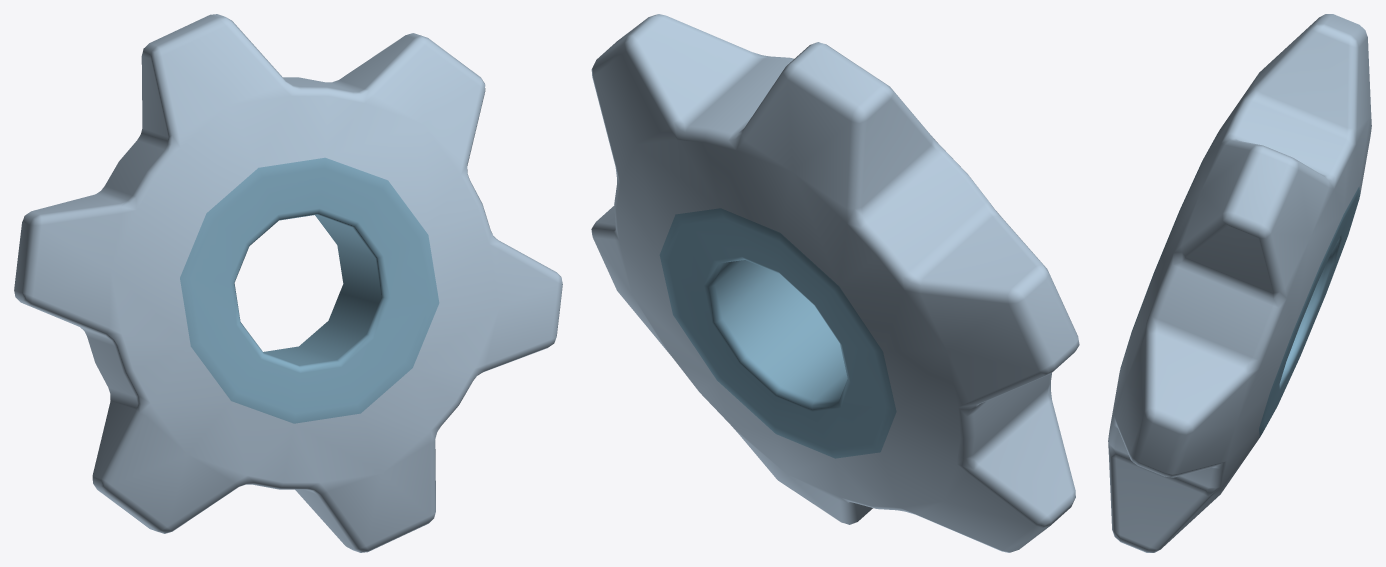
3 renders of one model, left to right at view 1: azimuth 30°, elevation 25°; view 2: azimuth 150°, elevation 25°; view 3: azimuth 270°, elevation 25°, orthographic. The views are drawn at different scales.
Parts seen in each view (by area): view 1: model_1.005; view 2: model_1.005; view 3: model_1.005.
Boxes of the visible parts, x1,y1,x2,y2 form: model_1.005: [14, 14, 562, 552]; model_1.005: [591, 14, 1079, 552]; model_1.005: [1108, 14, 1371, 552].
Bounding box in the file's own units: 4.21 × 4.12 × 2.01.
